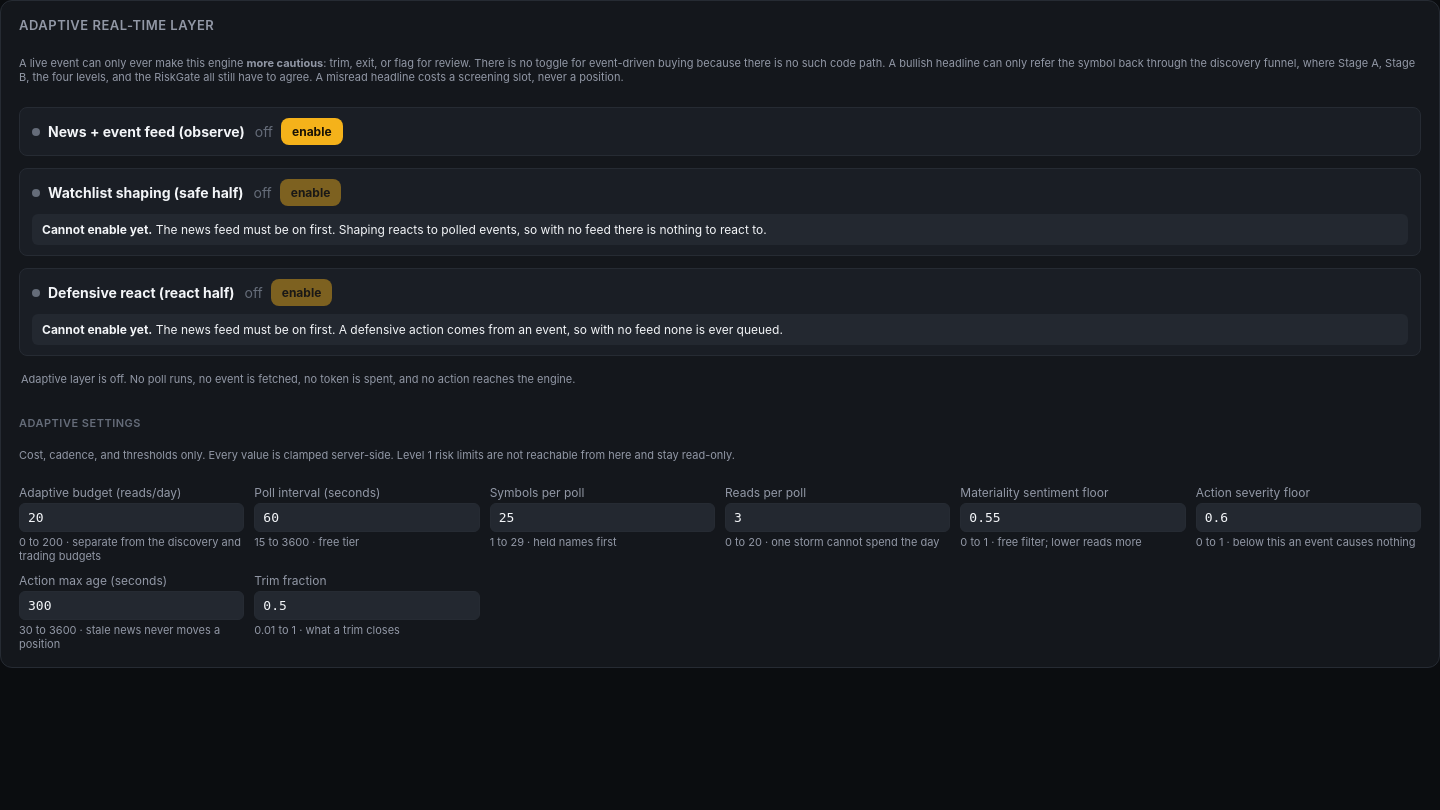
Test: enable toggles ask before they spend › states plainly what turning the feed on starts, and what it costs
What coordinates should you click on to do the following:
click the button "enable" in the row of "News + event feed (observe)"
I would click on:
 (312, 132)
Its box is [281,118,343,145].
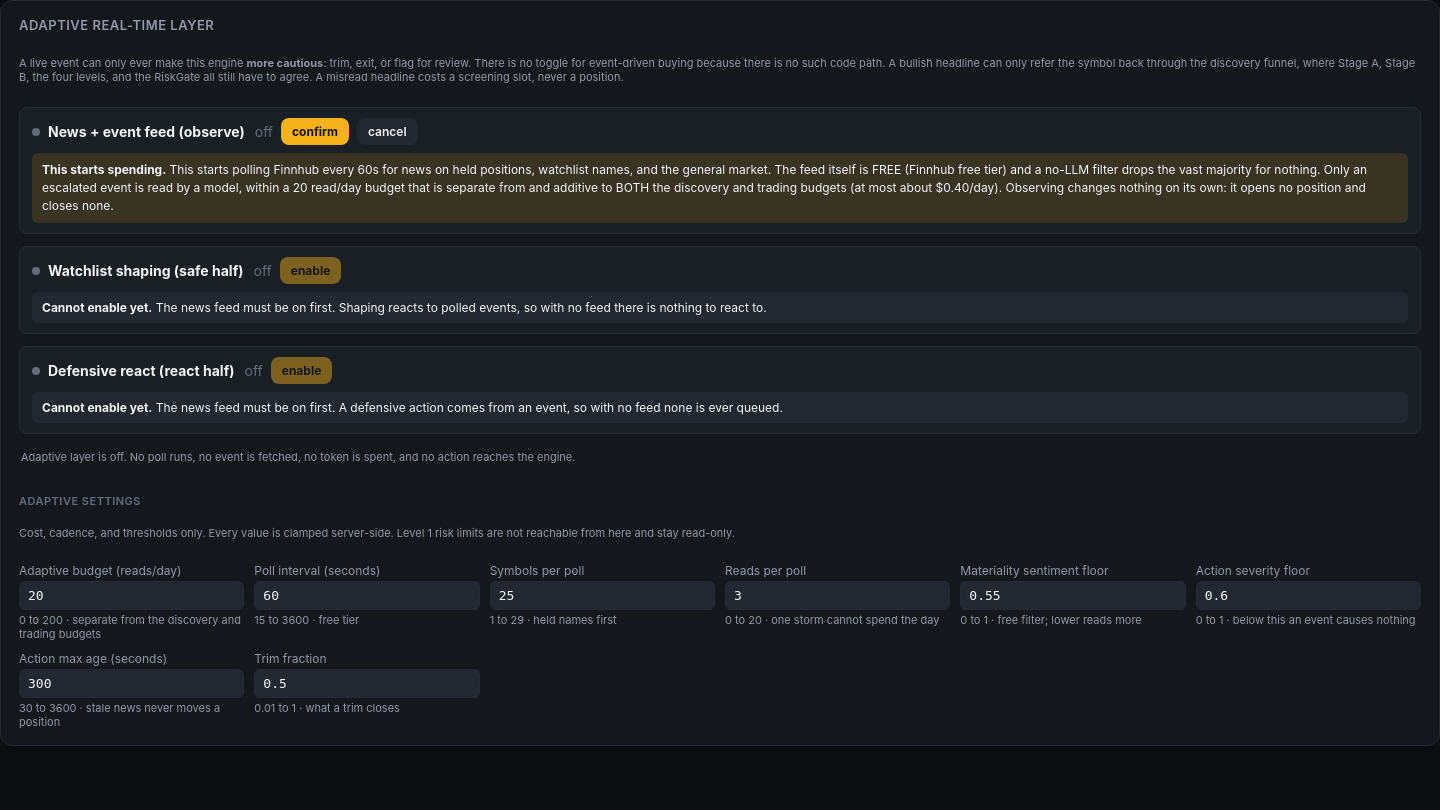
Expected: the element with test id "toggle-adaptive-feed-confirm" shows "every 60s", [42,162,1367,213]
Expected: the element with test id "toggle-adaptive-feed-confirm" shows "FREE", [42,162,1367,213]
Expected: the element with test id "toggle-adaptive-feed-confirm" shows "20 read/day", [42,162,1367,213]
